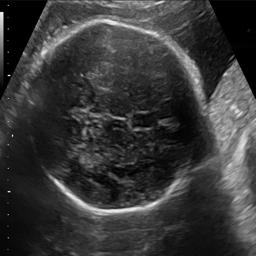normal: (29, 19, 215, 217)
